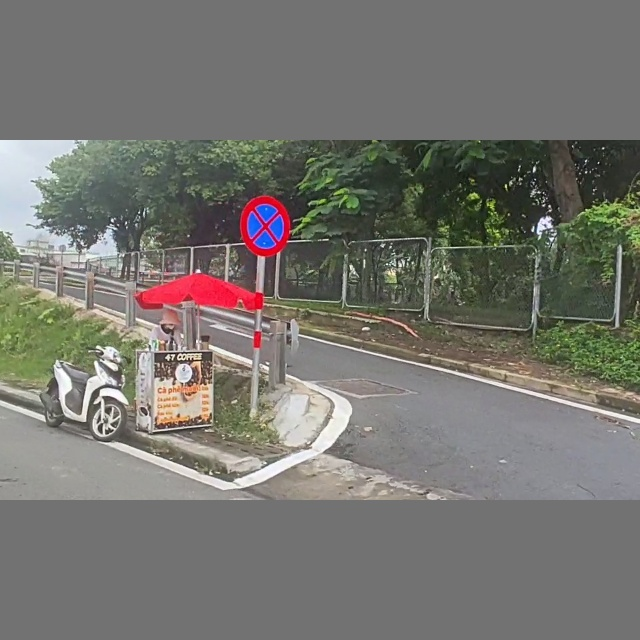P.130: (239, 195, 291, 257)
